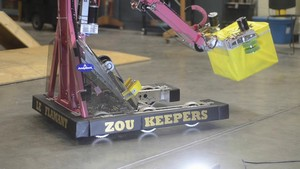cube: (204, 18, 279, 81)
